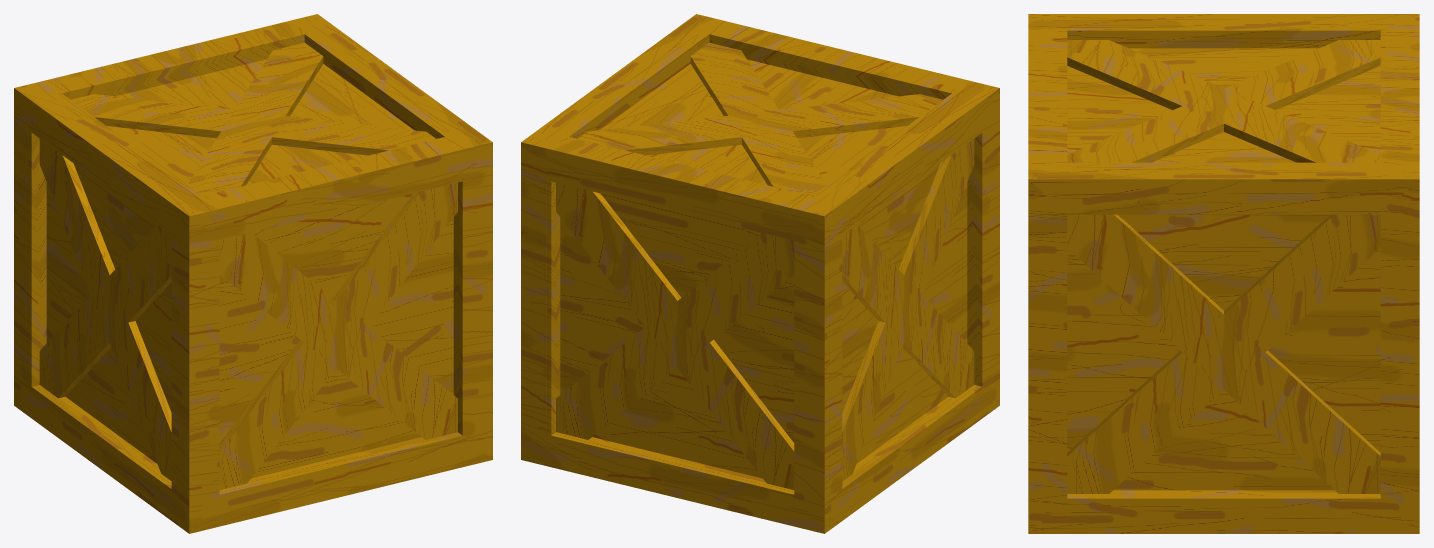
The model's file is Wood Crate 1.fbx.
3 renders of one model, left to right at view 1: azimuth 30°, elevation 25°; view 2: azimuth 150°, elevation 25°; view 3: azimuth 270°, elevation 25°, orthographic. The views are drawn at different scales.
Visible parts, largest first — view 1: Base Crate, Cross Wood, Cross Wood.005, Cross Wood.004; view 2: Base Crate, Cross Wood.001, Cross Wood.005, Cross Wood.004; view 3: Base Crate, Cross Wood.002, Cross Wood.004.
Part boxes in pixels (x1,y1,x2,y2): Base Crate: (14, 14, 492, 533); Cross Wood: (219, 182, 457, 489); Cross Wood.005: (39, 139, 171, 480); Cross Wood.004: (71, 42, 435, 195); Base Crate: (521, 14, 999, 533); Cross Wood.001: (556, 182, 794, 489); Cross Wood.005: (842, 139, 974, 480); Cross Wood.004: (578, 42, 942, 195); Base Crate: (1028, 14, 1419, 533); Cross Wood.002: (1067, 214, 1380, 493); Cross Wood.004: (1067, 40, 1380, 162).
Bounding box in the file's own units: 200 × 200 × 200.
Materials: 1 (1 with a texture image).
